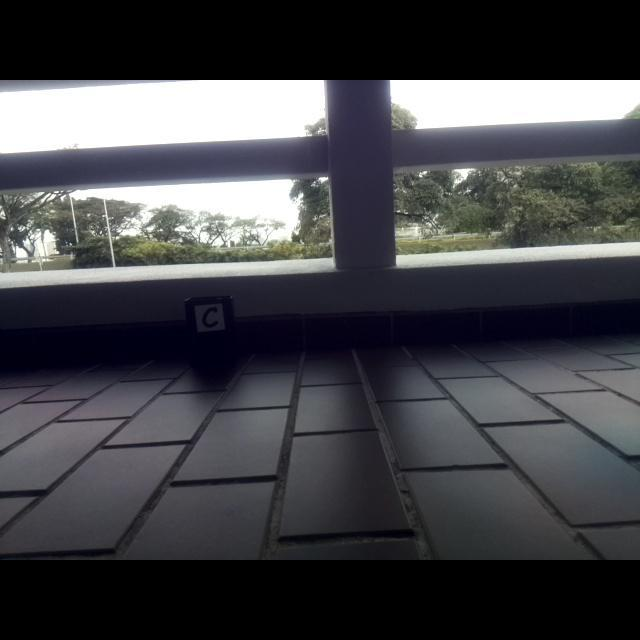C: (202, 307, 218, 329)
